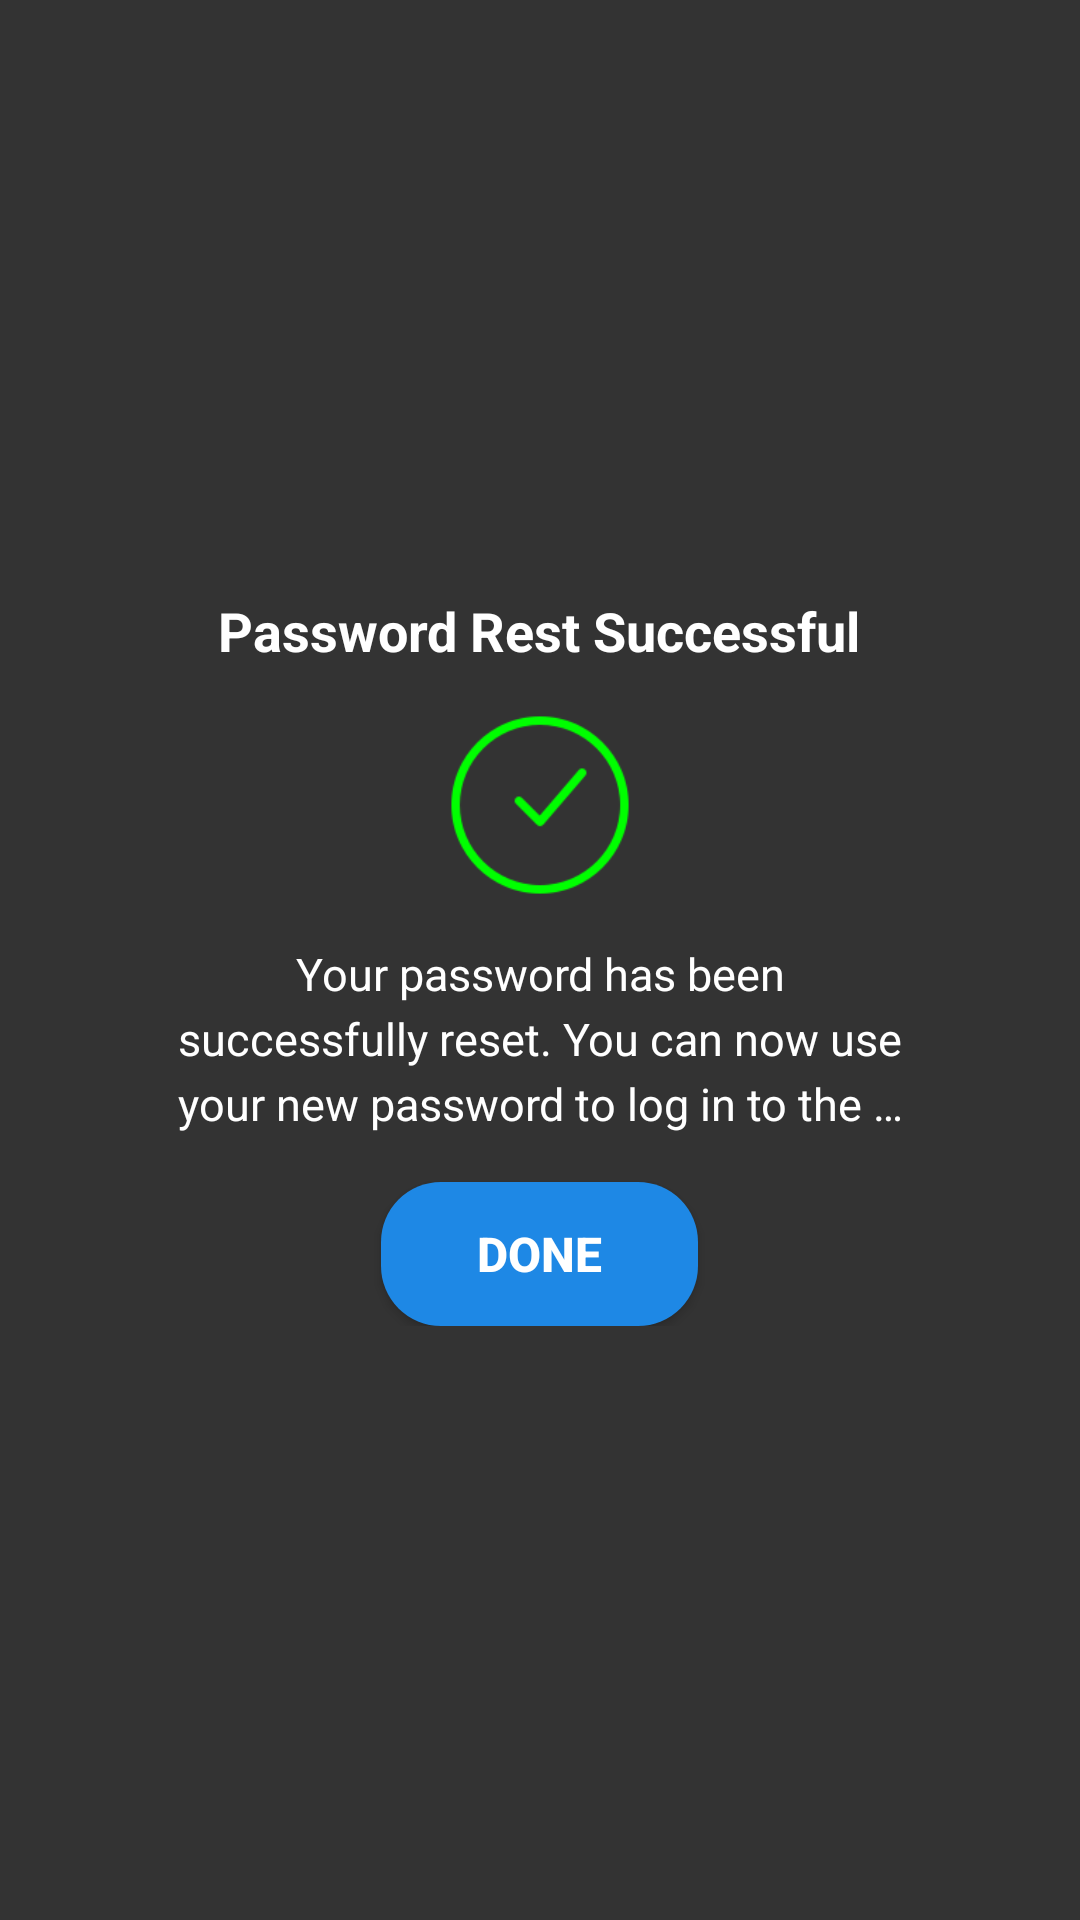

Screen size 1080w x 1920h. Icon name, then its center in pixels as (x,y):
Tick: (540,805)
